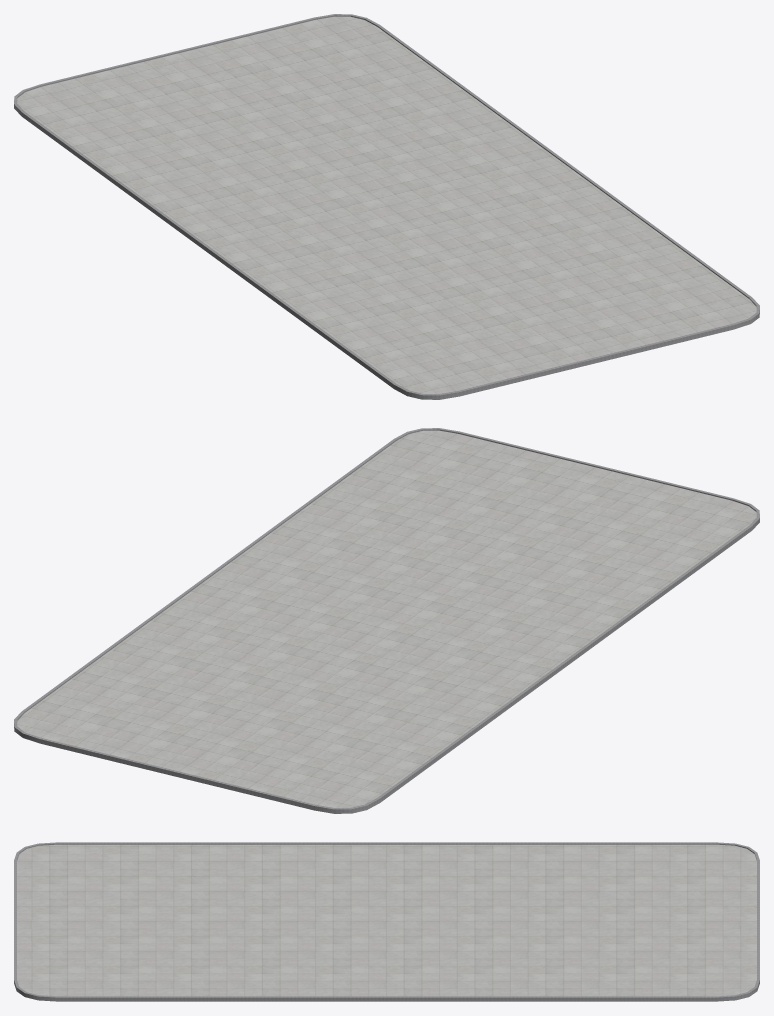
Rendered from v形滤池和反冲洗机房草地.obj.
3 views of the same model, one above another, from view 1: azimuth 30°, elevation 25°; view 2: azimuth 150°, elevation 25°; view 3: azimuth 270°, elevation 25° (orthographic). The views are drawn at different scales.
Parts seen in each view (by area): view 1: Object245, Box052; view 2: Object245, Box052; view 3: Object245, Box052.
Part boxes in pixels (<box>): Object245: <box>17,16,756,393</box>; Box052: <box>14,14,759,399</box>; Object245: <box>17,430,756,807</box>; Box052: <box>14,428,759,813</box>; Object245: <box>17,844,756,996</box>; Box052: <box>14,842,759,1001</box>.
Bounding box in the file's own units: 6405 × 76.69 × 13015.
